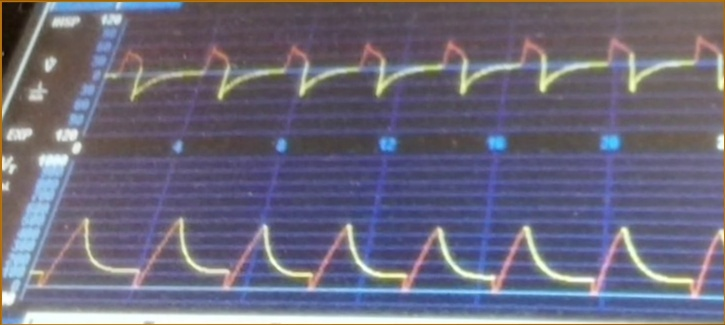Flow: (116, 23, 723, 129)
Leakage Volume: (36, 206, 725, 309)
